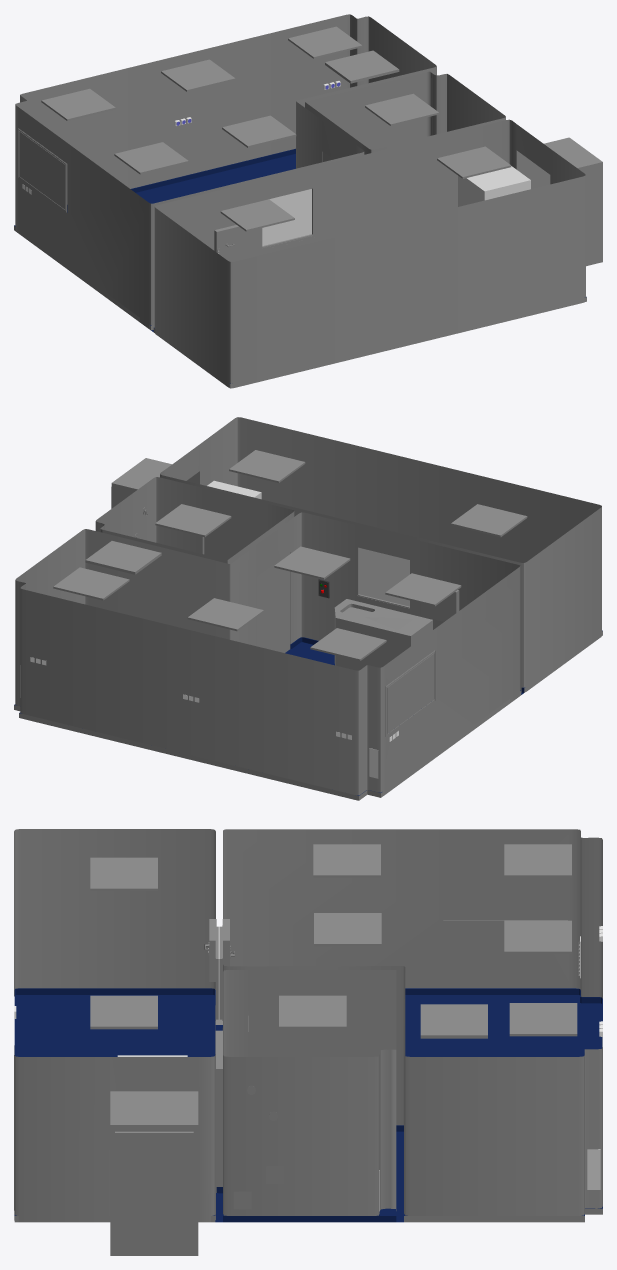
Rendered from Hata.FBX.
The picture shows the model from 3 angles, top to bottom: view 1: azimuth 30°, elevation 25°; view 2: azimuth 150°, elevation 25°; view 3: azimuth 270°, elevation 25°; orthographic projection. The views are drawn at different scales.
Visible parts, largest first — view 1: Walls, floor, Door1, window, 2M, Glass, VityagkaUp, Base008, Base010, Base009, Base007, Base (+5 smaller); view 2: Walls, Moika, floor, Door2, window, Glass, VityagkaUp, Base012, Base011, Base010, Base007, Base013 (+5 smaller); view 3: Walls, floor, Door(Whod), window, Door2, VityagkaUp, Base013, Base012, Base, Base011, Base010, Base009 (+4 smaller).
Part boxes in pixels (x1,y1,x2,y2): Walls: (15,14,602,388); floor: (14,148,586,388); Door1: (404,166,457,219); window: (19,132,65,209); 2M: (458,166,530,206); Glass: (262,189,311,245); VityagkaUp: (325,50,399,83); Base008: (41,88,115,120); Base010: (114,142,188,174); Base009: (222,115,296,147); Base007: (161,59,235,91); Base: (288,26,362,58); Walls: (15,417,601,795); Moika: (334,599,432,670); floor: (14,630,602,800); Door2: (257,552,290,652); window: (387,653,434,733); Glass: (359,548,409,606); VityagkaUp: (85,541,161,574); Base012: (229,450,305,483); Base011: (451,504,527,537); Base010: (385,573,461,606); Base007: (187,598,263,631); Base013: (155,504,231,537); Walls: (14,829,602,1255); floor: (14,988,602,1255); Door(Whod): (115,1133,193,1250); window: (445,859,566,918); Door2: (249,1011,336,1056); VityagkaUp: (420,1004,487,1038); Base013: (279,995,346,1029); Base012: (90,995,157,1029); Base: (509,1003,577,1036); Base011: (90,857,157,890); Base010: (313,844,380,877); Base009: (314,913,381,946).
Bounding box in the file's own units: 8.33 × 2.46 × 7.89.
